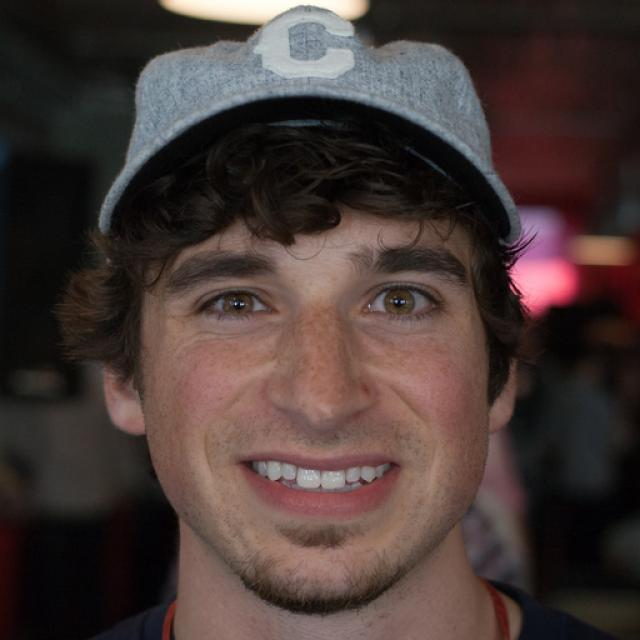Pigmentation: (271, 304, 361, 403)
